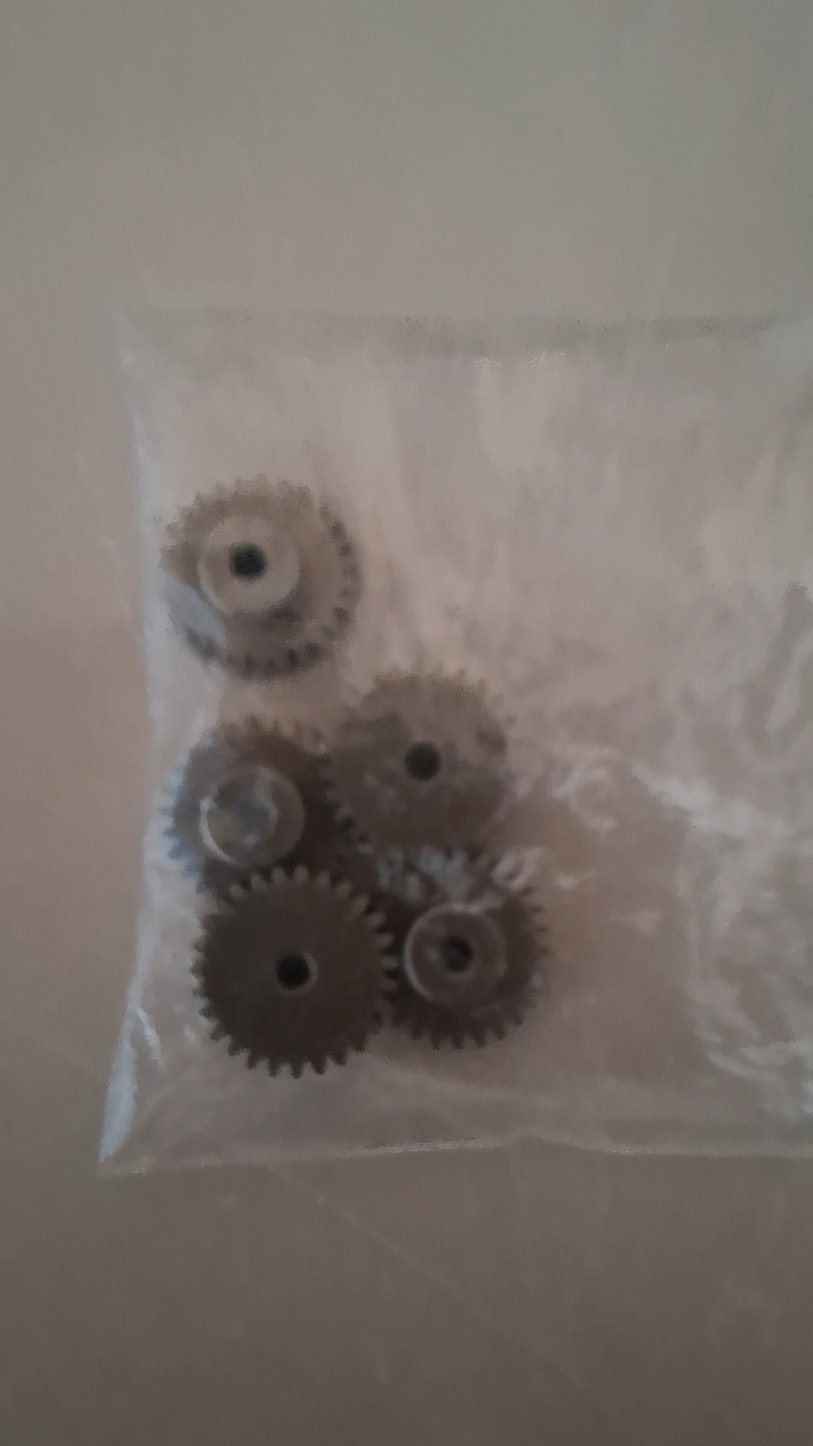spur gear: (193, 868, 391, 1077), (161, 478, 360, 677), (356, 850, 547, 1046), (330, 673, 510, 849), (166, 719, 340, 889)
